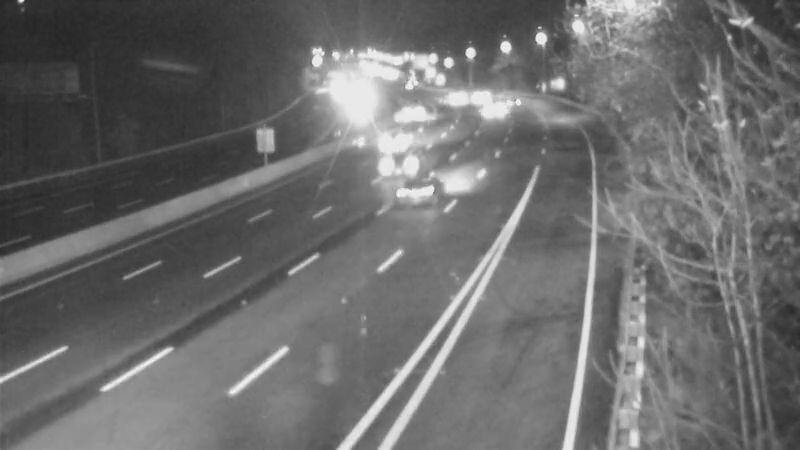vehicle: (355, 127, 435, 207), (376, 147, 456, 227), (435, 75, 485, 125), (455, 74, 505, 124), (486, 77, 536, 127), (465, 89, 515, 139), (392, 83, 442, 133), (375, 117, 425, 167)
